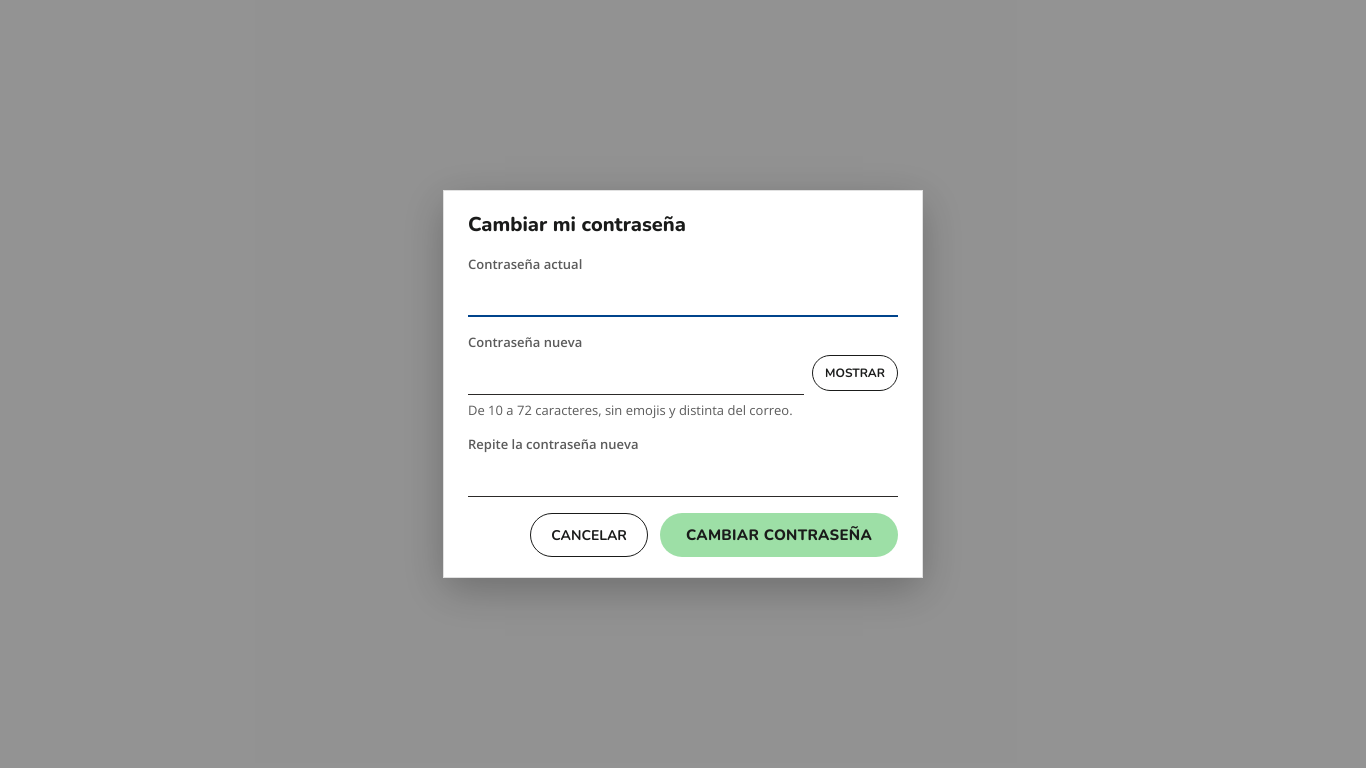
Test: ChangePasswordDialog › rechaza una contraseña nueva igual a la actual
Type "una-clave-larga-1" into the password field labelled "Contraseña actual" at (683, 295), box [468,273,898,317]
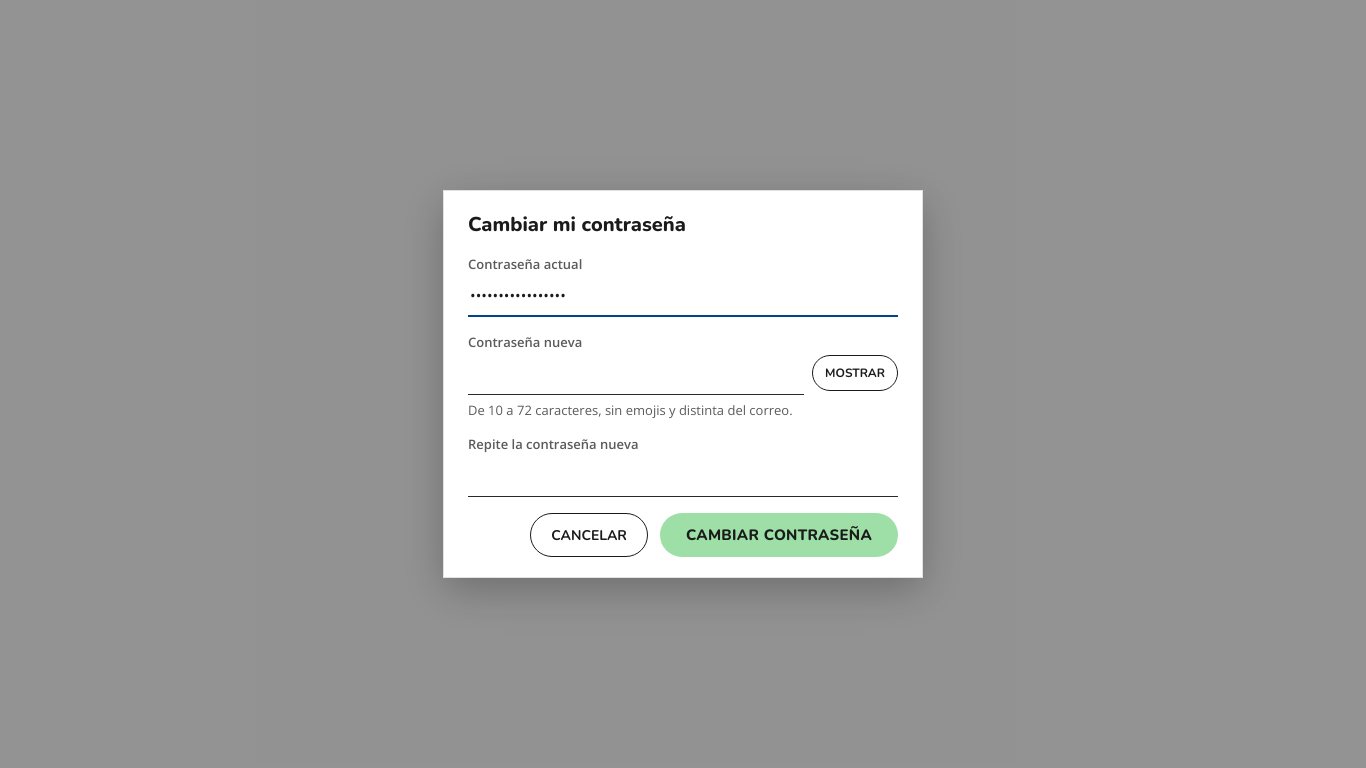
Type "una-clave-larga-1" into the password field labelled "Contraseña nueva" at (636, 373), box [468,351,804,395]
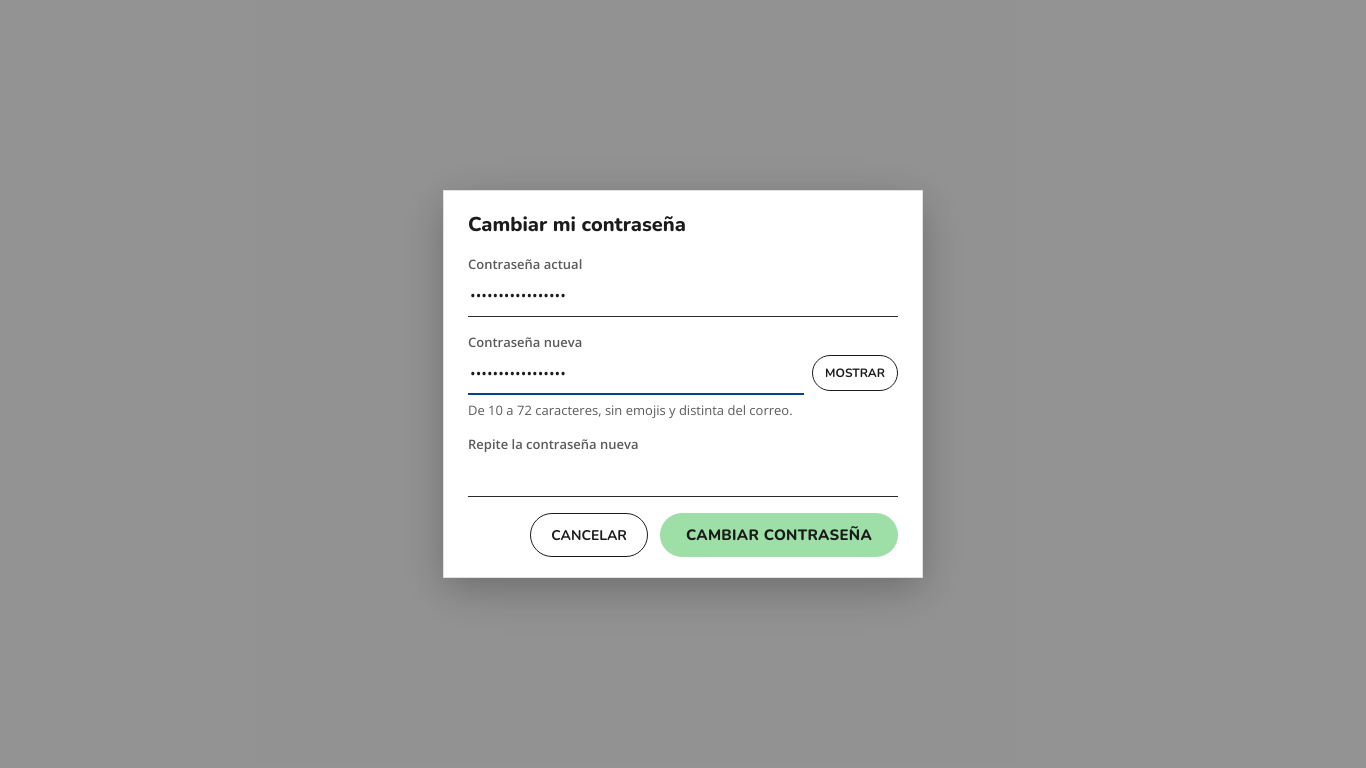
Type "una-clave-larga-1" into the password field labelled "Repite la contraseña nueva" at (683, 475), box [468,453,898,497]
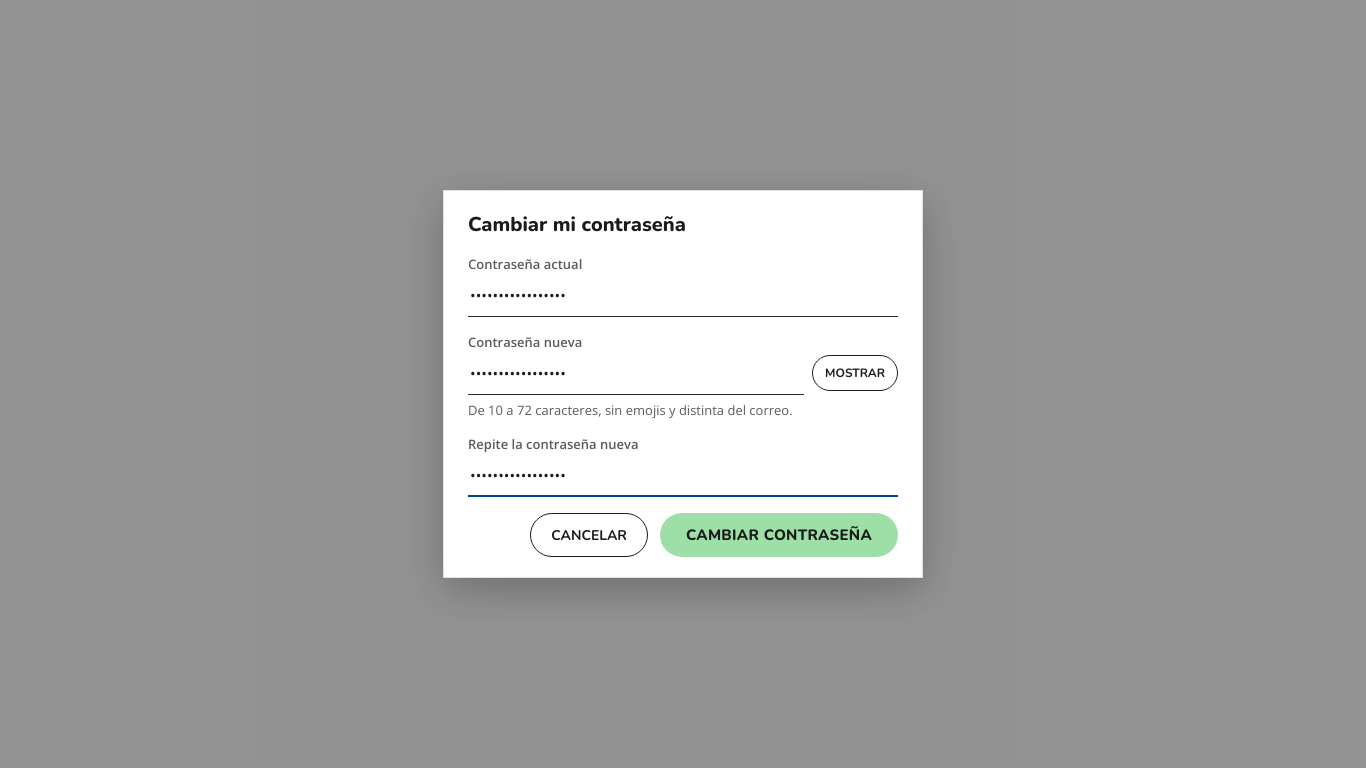
Click the button "Cambiar contraseña" at (779, 535), box [660,513,898,557]
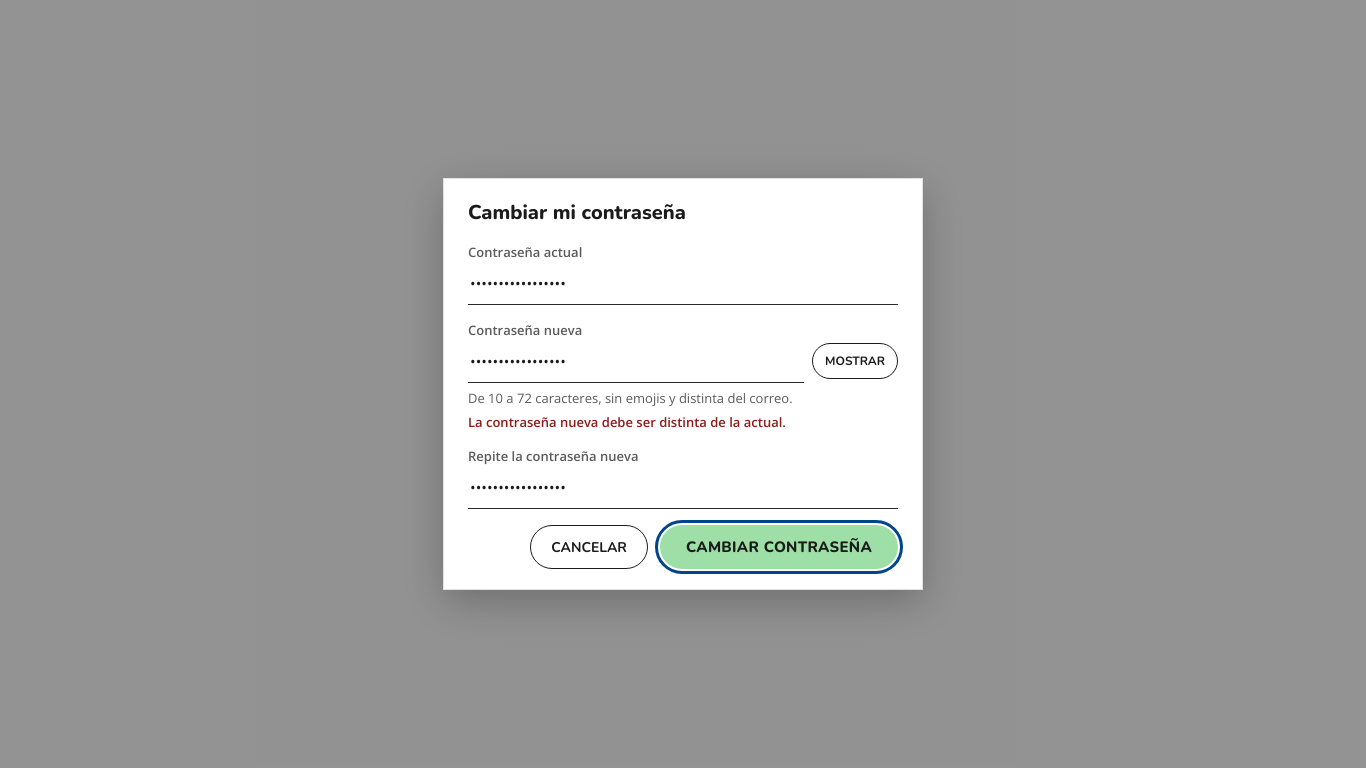
Result: the text "La contraseña nueva debe ser distinta de la actual." is shown at [468,413,786,431]
